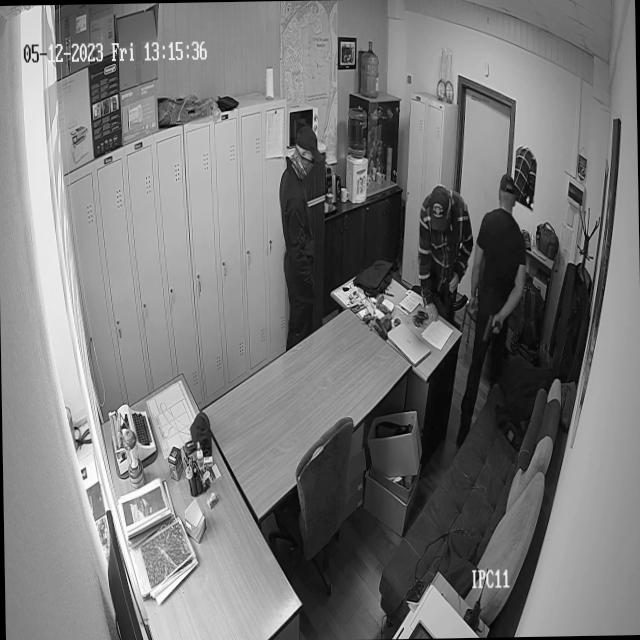gun: (440, 250, 466, 332), (480, 308, 504, 349)
person: (277, 134, 321, 350)
person with a gun: (452, 175, 526, 447), (417, 184, 473, 322)
